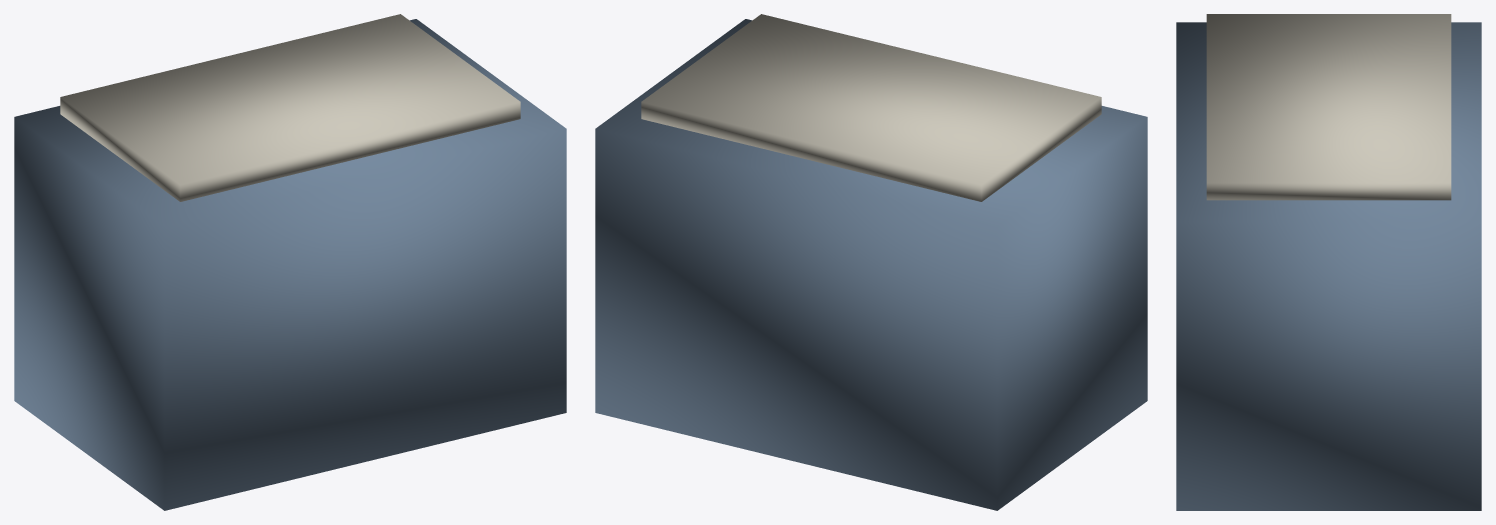
The model's file is lost_and_found_bin__reinforced.glb.
3 views of the same model, side by side, from view 1: azimuth 30°, elevation 25°; view 2: azimuth 150°, elevation 25°; view 3: azimuth 270°, elevation 25° (orthographic).
Visible parts, largest first — view 1: world; view 2: world; view 3: world.
Boxes of the visible parts, <box> form: world: <box>14,14,566,510</box>; world: <box>595,14,1147,510</box>; world: <box>1176,14,1481,510</box>.
Bounding box in the file's own units: 0.8755 × 0.64 × 0.5665.
